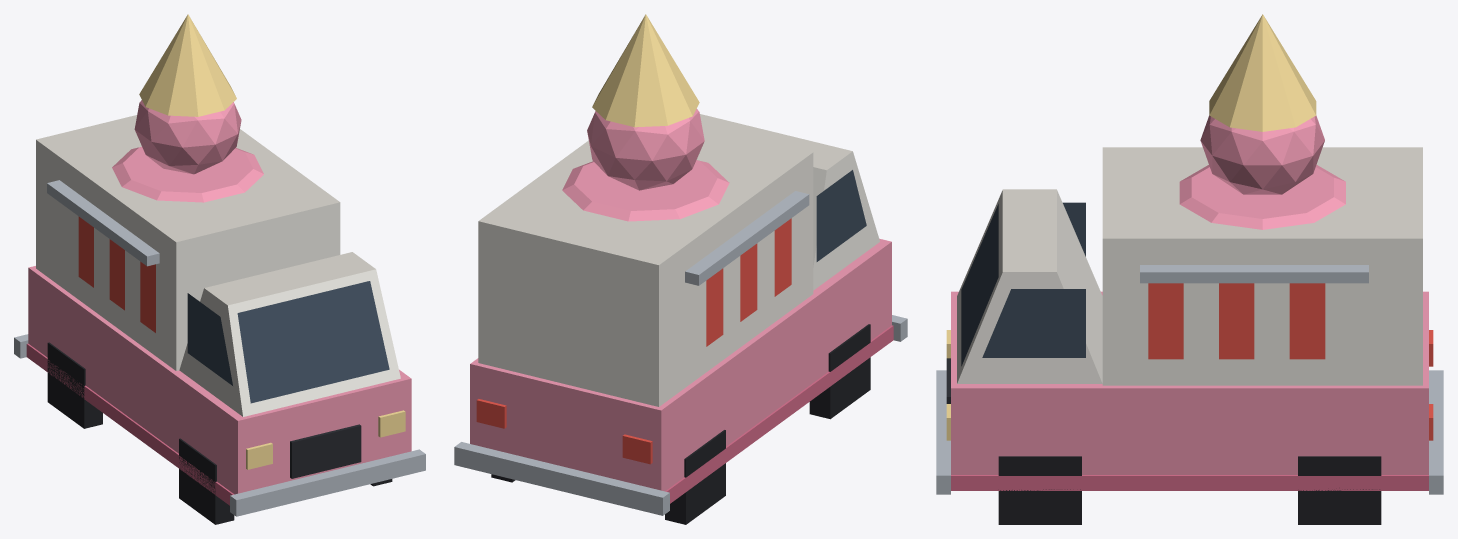
Rendered from P_IceCreamTruck.fbx.
The picture shows the model from 3 angles, left to right: view 1: azimuth 30°, elevation 25°; view 2: azimuth 150°, elevation 25°; view 3: azimuth 270°, elevation 25°; orthographic projection. The views are drawn at different scales.
Visible parts, largest first — view 1: P_IceCreamTruck; view 2: P_IceCreamTruck; view 3: P_IceCreamTruck.
Boxes of the visible parts, box(x1,y1,x2,y2) form: P_IceCreamTruck: box(14, 14, 425, 524); P_IceCreamTruck: box(454, 14, 907, 524); P_IceCreamTruck: box(936, 14, 1443, 524).
Bounding box in the file's own units: 1.2 × 2.45 × 2.44.
